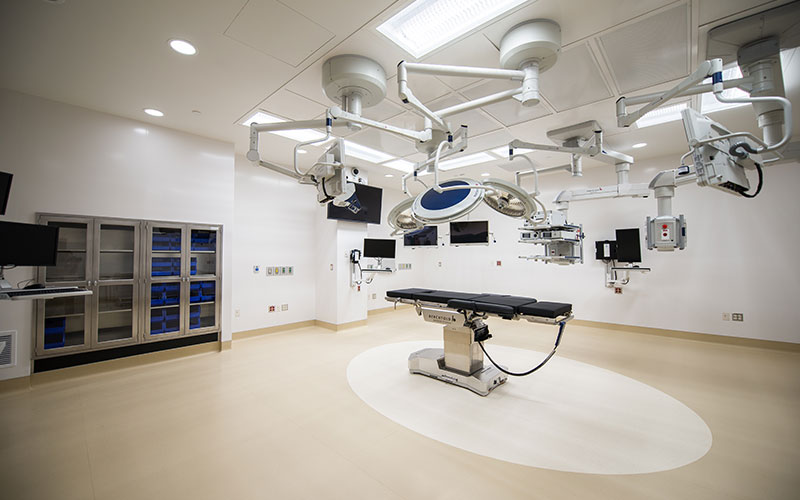bedside_monitor: (679, 108, 754, 201), (311, 143, 356, 208), (325, 179, 382, 225), (447, 220, 490, 247), (403, 225, 437, 248), (593, 241, 619, 260)
cabinet: (38, 217, 140, 350), (141, 219, 220, 344)
computer: (1, 222, 58, 267), (616, 230, 641, 262), (364, 237, 396, 260)
handle: (187, 275, 193, 284), (181, 275, 187, 284), (94, 279, 100, 288), (87, 279, 93, 288)
keyboard: (7, 291, 88, 297), (609, 266, 654, 272), (360, 268, 394, 272)
operating_bed: (386, 280, 563, 388)
surgical_light: (412, 178, 483, 223), (477, 181, 543, 220), (389, 196, 420, 239)
